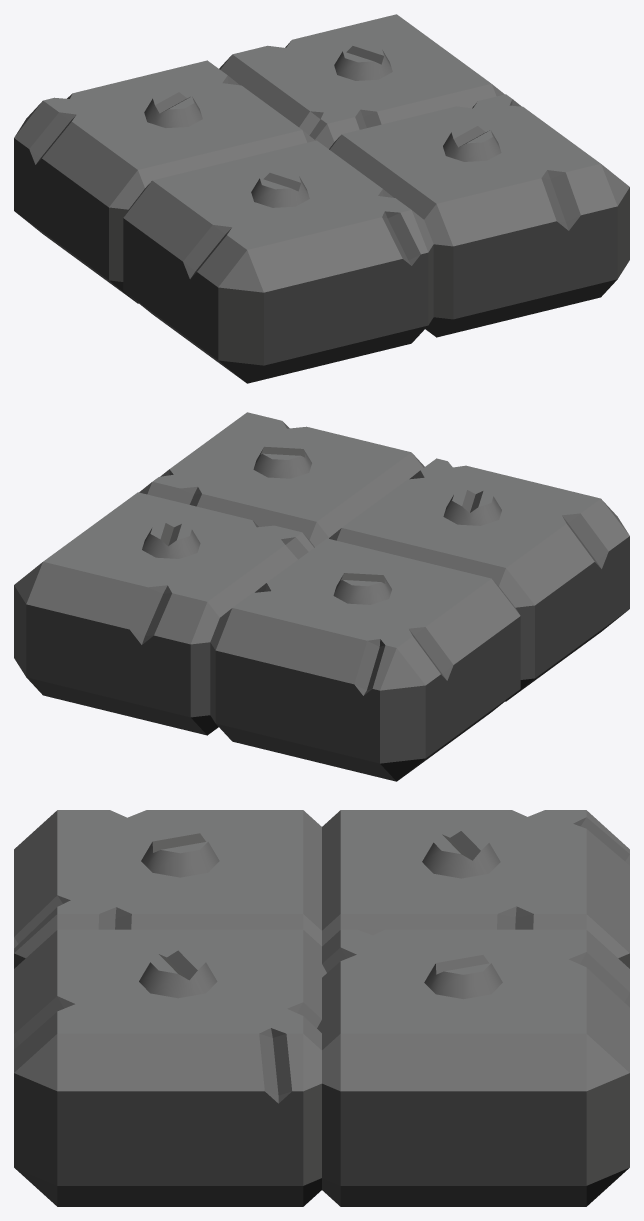
The model's file is m_kub_metalOld_floorFour.FBX.
3 views of the same model, one above another, from view 1: azimuth 30°, elevation 25°; view 2: azimuth 150°, elevation 25°; view 3: azimuth 270°, elevation 25° (orthographic). The views are drawn at different scales.
Visible parts, largest first — view 1: m_kub_metalOld_floorFour; view 2: m_kub_metalOld_floorFour; view 3: m_kub_metalOld_floorFour.
Boxes of the visible parts, left/top/right/bottom form: m_kub_metalOld_floorFour: left=14, top=14, right=629, bottom=383; m_kub_metalOld_floorFour: left=14, top=412, right=629, bottom=781; m_kub_metalOld_floorFour: left=14, top=810, right=629, bottom=1206.
Bounding box in the file's own units: 2.18 × 0.7512 × 2.18.
